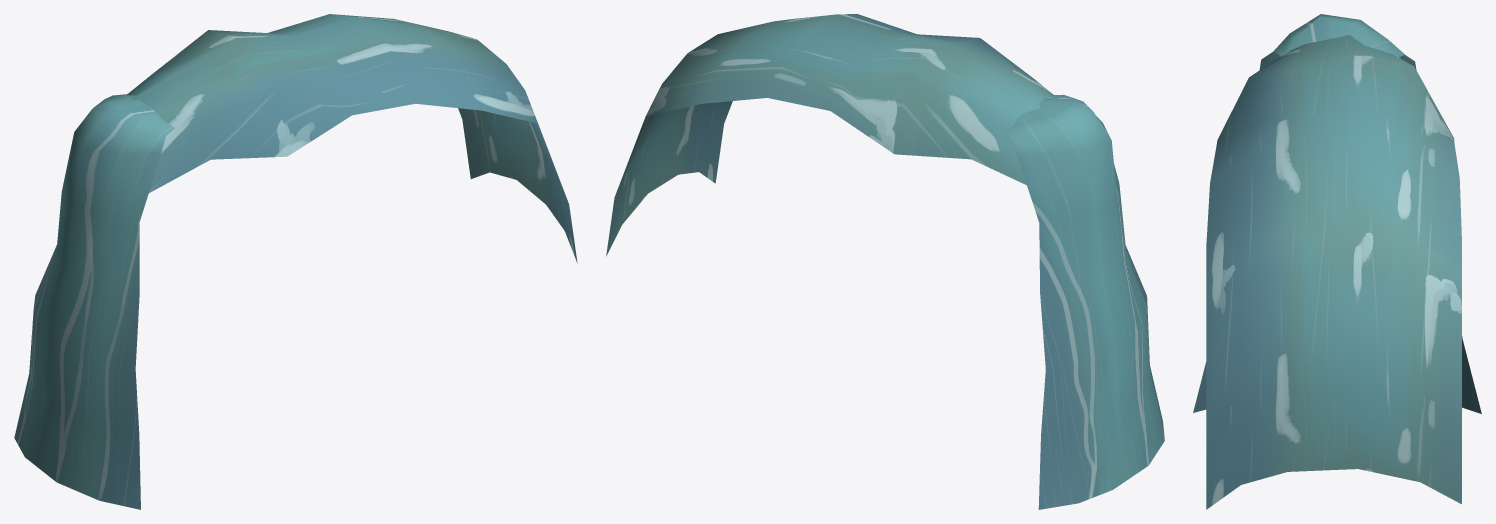
Rendered from waterfall river piece.fbx.
The picture shows the model from 3 angles, left to right: view 1: azimuth 30°, elevation 25°; view 2: azimuth 150°, elevation 25°; view 3: azimuth 270°, elevation 25°; orthographic projection. The views are drawn at different scales.
Visible parts, largest first — view 1: waterfall_river1; view 2: waterfall_river1; view 3: waterfall_river1.
Part boxes in pixels (x1,y1,x2,y2): waterfall_river1: (14, 14, 577, 509); waterfall_river1: (606, 14, 1164, 509); waterfall_river1: (1193, 14, 1481, 509).
Bounding box in the file's own units: 43.41 × 33.01 × 19.14.
